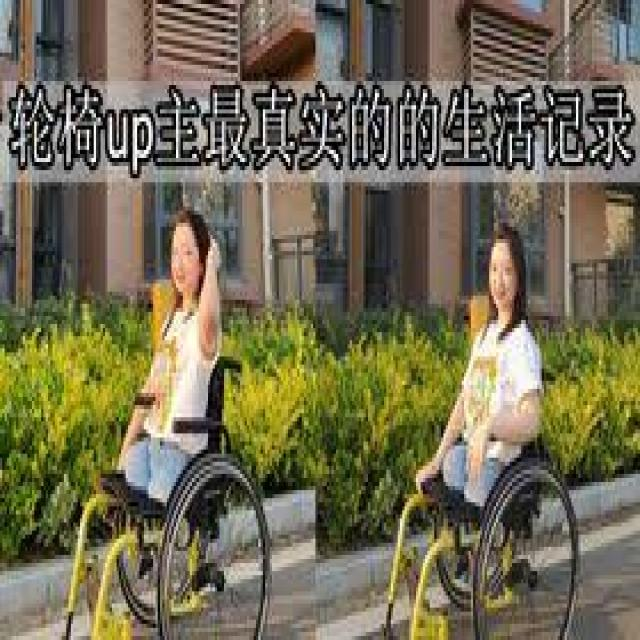wheelchairs: (57, 348, 270, 636), (375, 348, 587, 636)
